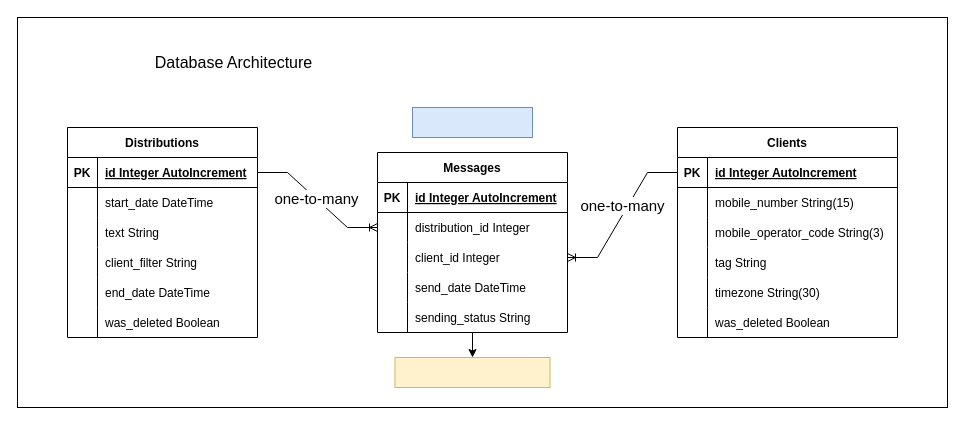
This 965x425 diagram has some shape labels left out. The centre of each missing label's shape, as x and y in pixels:
"Associative table" belongs at pixel 472 122.
"SENT, NOT_SENT, FAIL" belongs at pixel 472 372.
